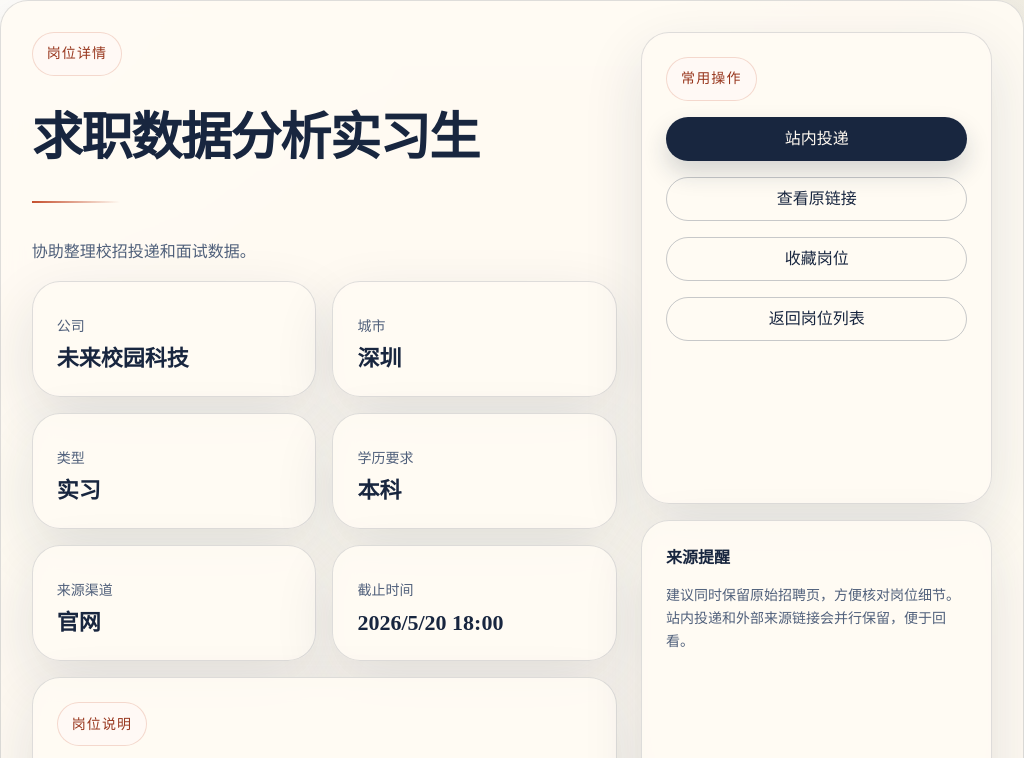
Test: authenticated user with no resumes sees upload guidance before applying
Click the button with test id "apply-toggle": x=817, y=139 left=666, top=117, right=967, bottom=161
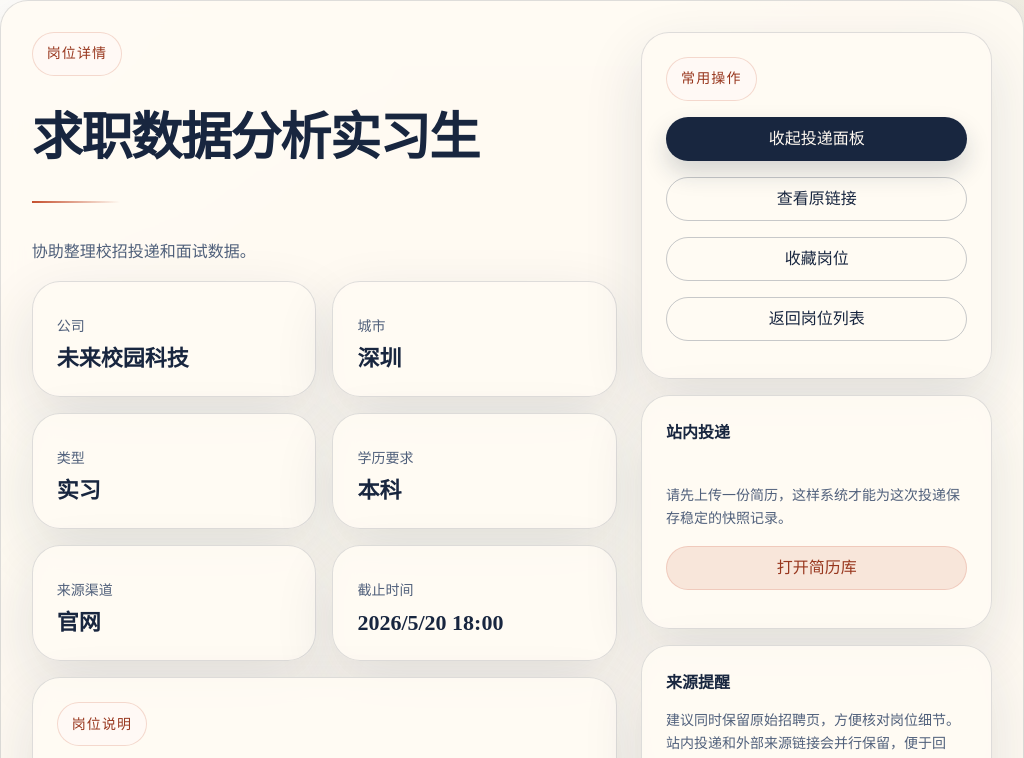
Result: the text "请先上传一份简历" is shown at left=666, top=487, right=960, bottom=526
